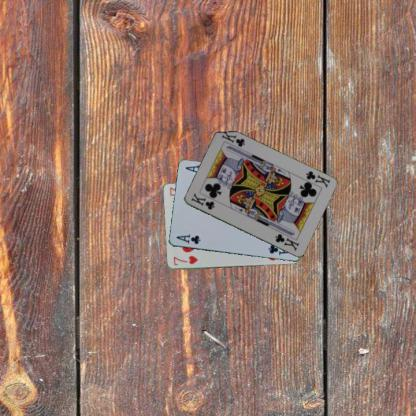7h: (171, 253, 199, 266)
Ac: (173, 232, 202, 246)
Kc: (303, 168, 331, 189), (188, 191, 216, 211)
